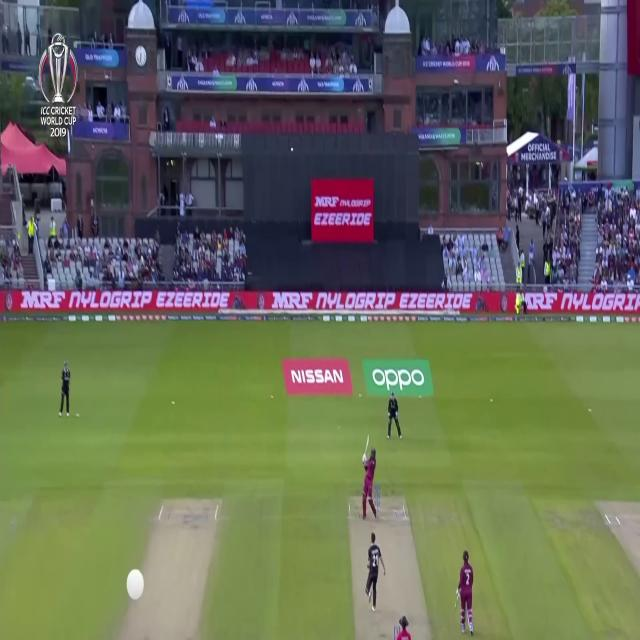ball: (289, 142, 295, 154)
